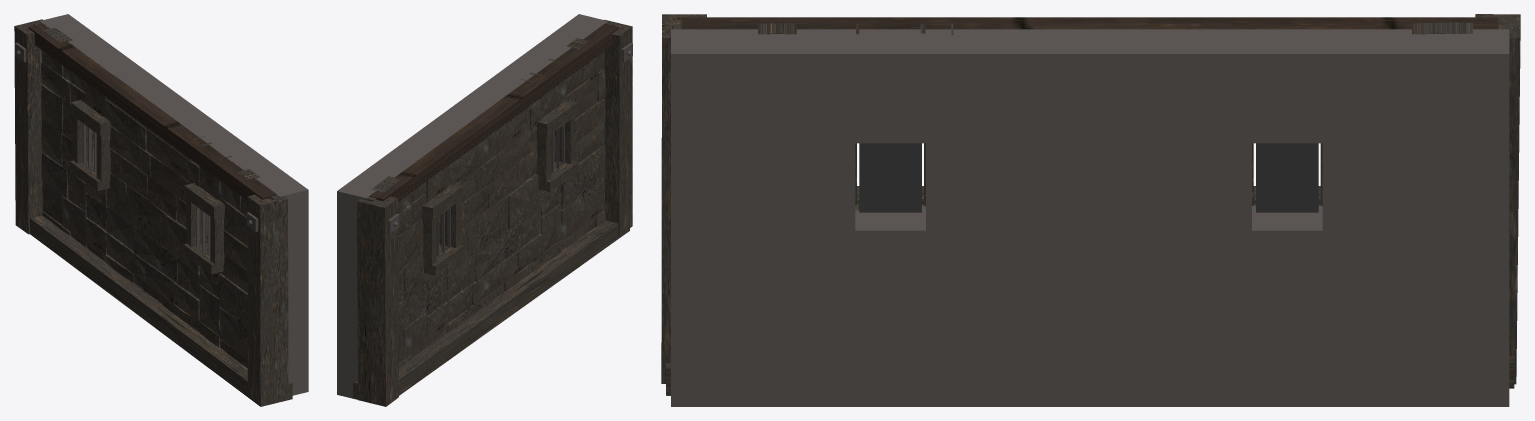
File: wall_left_preview.glb
3 renders of one model, left to right at view 1: azimuth 30°, elevation 25°; view 2: azimuth 150°, elevation 25°; view 3: azimuth 270°, elevation 25°, orthographic. The views are drawn at different scales.
Visible parts, largest first — view 1: ASSET_LEFT_LEFT_load_corner_1, ASSET_LEFT_LEFT_continuous_plinth, ASSET_LEFT_LEFT_wall_plate, ASSET_LEFT_LEFT_solid_4_structural, ASSET_LEFT_LEFT_load_corner_-1, ASSET_LEFT_LEFT_solid_2_structural, ASSET_LEFT_LEFT_solid_2_stone_3_1, ASSET_LEFT_LEFT_solid_0_structural, ASSET_LEFT_LEFT_solid_2_stone_2_1, ASSET_LEFT_LEFT_solid_2_stone_1_1, ASSET_LEFT_LEFT_solid_4_stone_2_0, ASSET_LEFT_LEFT_solid_2_stone_6_0 (+48 smaller); view 2: ASSET_LEFT_LEFT_load_corner_-1, ASSET_LEFT_LEFT_continuous_plinth, ASSET_LEFT_LEFT_wall_plate, ASSET_LEFT_LEFT_solid_0_structural, ASSET_LEFT_LEFT_load_corner_1, ASSET_LEFT_LEFT_solid_2_structural, ASSET_LEFT_LEFT_solid_4_structural, ASSET_LEFT_LEFT_solid_2_stone_3_1, ASSET_LEFT_LEFT_solid_4_stone_2_0, ASSET_LEFT_LEFT_solid_4_stone_1_0, ASSET_LEFT_LEFT_solid_2_stone_3_2, ASSET_LEFT_LEFT_solid_2_stone_2_1 (+49 smaller); view 3: ASSET_LEFT_LEFT_solid_2_structural, ASSET_LEFT_LEFT_solid_0_structural, ASSET_LEFT_LEFT_solid_4_structural, ASSET_LEFT_LEFT_low_1_structural, ASSET_LEFT_LEFT_low_3_structural, ASSET_LEFT_LEFT_wall_plate, ASSET_LEFT_LEFT_upper_1_structural, ASSET_LEFT_LEFT_upper_3_structural, ASSET_LEFT_LEFT_window_0_inner_dark, ASSET_LEFT_LEFT_window_1_inner_dark, ASSET_LEFT_LEFT_load_corner_-1, ASSET_LEFT_LEFT_load_corner_1 (+1 smaller).
Boxes of the visible parts, x1=… form: ASSET_LEFT_LEFT_load_corner_1: x1=247, y1=194, x2=288, y2=404; ASSET_LEFT_LEFT_continuous_plinth: x1=30, y1=215, x2=292, y2=406; ASSET_LEFT_LEFT_wall_plate: x1=28, y1=23, x2=276, y2=199; ASSET_LEFT_LEFT_solid_4_structural: x1=227, y1=151, x2=308, y2=395; ASSET_LEFT_LEFT_load_corner_-1: x1=14, y1=19, x2=43, y2=234; ASSET_LEFT_LEFT_solid_2_structural: x1=113, y1=68, x2=234, y2=244; ASSET_LEFT_LEFT_solid_2_stone_3_1: x1=126, y1=185, x2=167, y2=248; ASSET_LEFT_LEFT_solid_0_structural: x1=39, y1=14, x2=121, y2=161; ASSET_LEFT_LEFT_solid_2_stone_2_1: x1=134, y1=226, x2=177, y2=282; ASSET_LEFT_LEFT_solid_2_stone_1_1: x1=130, y1=251, x2=176, y2=304; ASSET_LEFT_LEFT_solid_4_stone_2_0: x1=219, y1=274, x2=247, y2=327; ASSET_LEFT_LEFT_solid_2_stone_6_0: x1=105, y1=99, x2=146, y2=150; ASSET_LEFT_LEFT_load_corner_-1: x1=357, y1=196, x2=398, y2=406; ASSET_LEFT_LEFT_continuous_plinth: x1=353, y1=220, x2=629, y2=398; ASSET_LEFT_LEFT_wall_plate: x1=369, y1=23, x2=619, y2=201; ASSET_LEFT_LEFT_solid_0_structural: x1=337, y1=151, x2=419, y2=399; ASSET_LEFT_LEFT_load_corner_1: x1=603, y1=19, x2=632, y2=235; ASSET_LEFT_LEFT_solid_2_structural: x1=411, y1=68, x2=533, y2=245; ASSET_LEFT_LEFT_solid_4_structural: x1=526, y1=14, x2=608, y2=161; ASSET_LEFT_LEFT_solid_2_stone_3_1: x1=468, y1=195, x2=509, y2=259; ASSET_LEFT_LEFT_solid_4_stone_2_0: x1=560, y1=144, x2=605, y2=208; ASSET_LEFT_LEFT_solid_4_stone_1_0: x1=561, y1=179, x2=604, y2=240; ASSET_LEFT_LEFT_solid_2_stone_3_2: x1=508, y1=173, x2=542, y2=229; ASSET_LEFT_LEFT_solid_2_stone_2_1: x1=475, y1=225, x2=518, y2=281; ASSET_LEFT_LEFT_solid_2_structural: x1=926, y1=29, x2=1251, y2=406; ASSET_LEFT_LEFT_solid_0_structural: x1=1322, y1=29, x2=1509, y2=406; ASSET_LEFT_LEFT_solid_4_structural: x1=671, y1=29, x2=855, y2=406; ASSET_LEFT_LEFT_low_1_structural: x1=1252, y1=206, x2=1322, y2=406; ASSET_LEFT_LEFT_low_3_structural: x1=855, y1=206, x2=925, y2=406; ASSET_LEFT_LEFT_wall_plate: x1=681, y1=17, x2=1498, y2=29; ASSET_LEFT_LEFT_upper_1_structural: x1=1252, y1=29, x2=1322, y2=143; ASSET_LEFT_LEFT_upper_3_structural: x1=855, y1=29, x2=925, y2=143; ASSET_LEFT_LEFT_window_0_inner_dark: x1=1256, y1=143, x2=1318, y2=212; ASSET_LEFT_LEFT_window_1_inner_dark: x1=859, y1=143, x2=921, y2=212; ASSET_LEFT_LEFT_load_corner_-1: x1=1475, y1=14, x2=1520, y2=384; ASSET_LEFT_LEFT_load_corner_1: x1=661, y1=14, x2=706, y2=383.
Size of the model in its own units: 0.926 by 3.24 by 7.06.
Materials: 7 (4 with a texture image).
